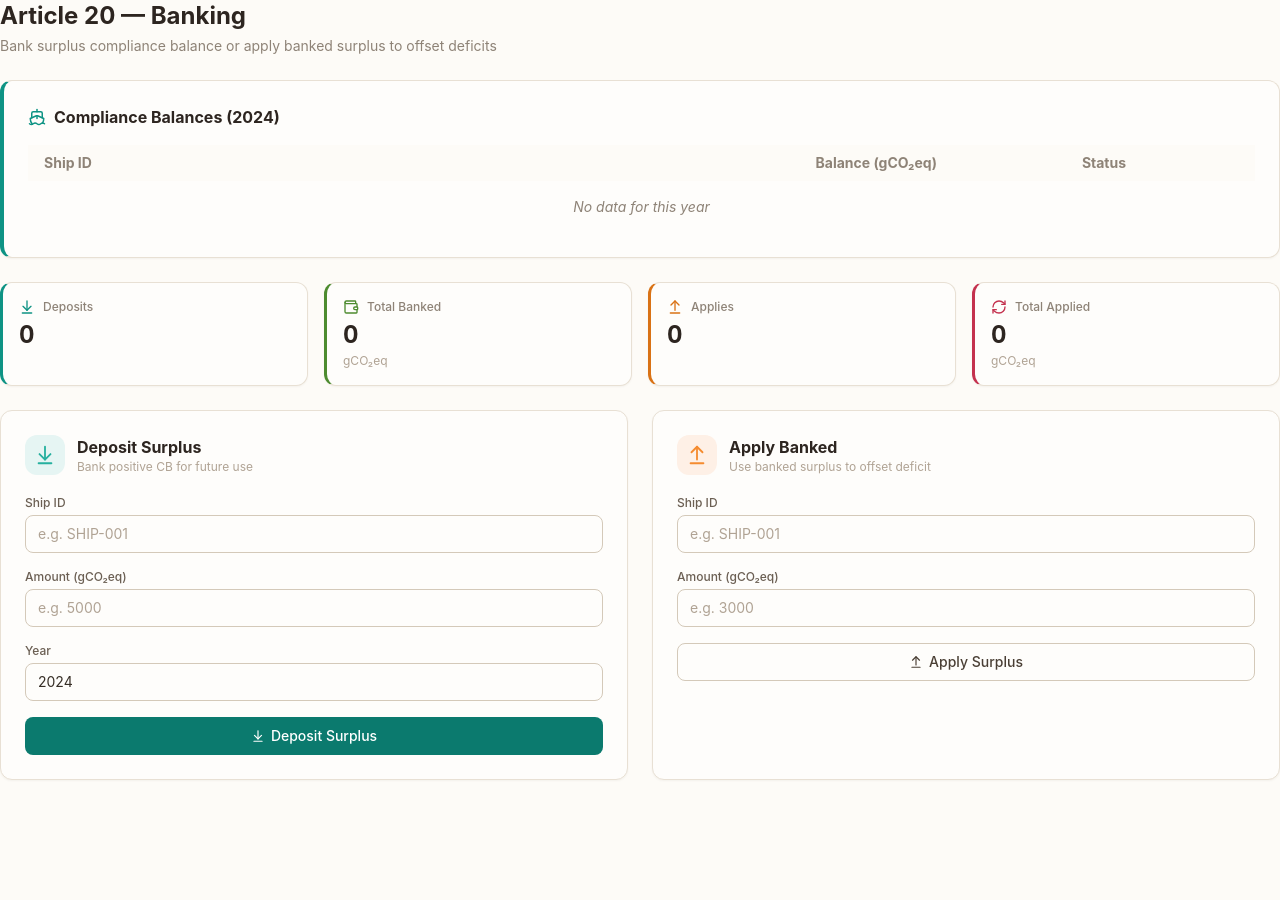
Test case: BankingTab › deposits surplus successfully
The image size is (1280, 900).
Type "SHIP-001" into the field with placeholder "e.g. SHIP-001" below "Bank positive CB for future use". click: [314, 534]
box: [25,515,603,553]
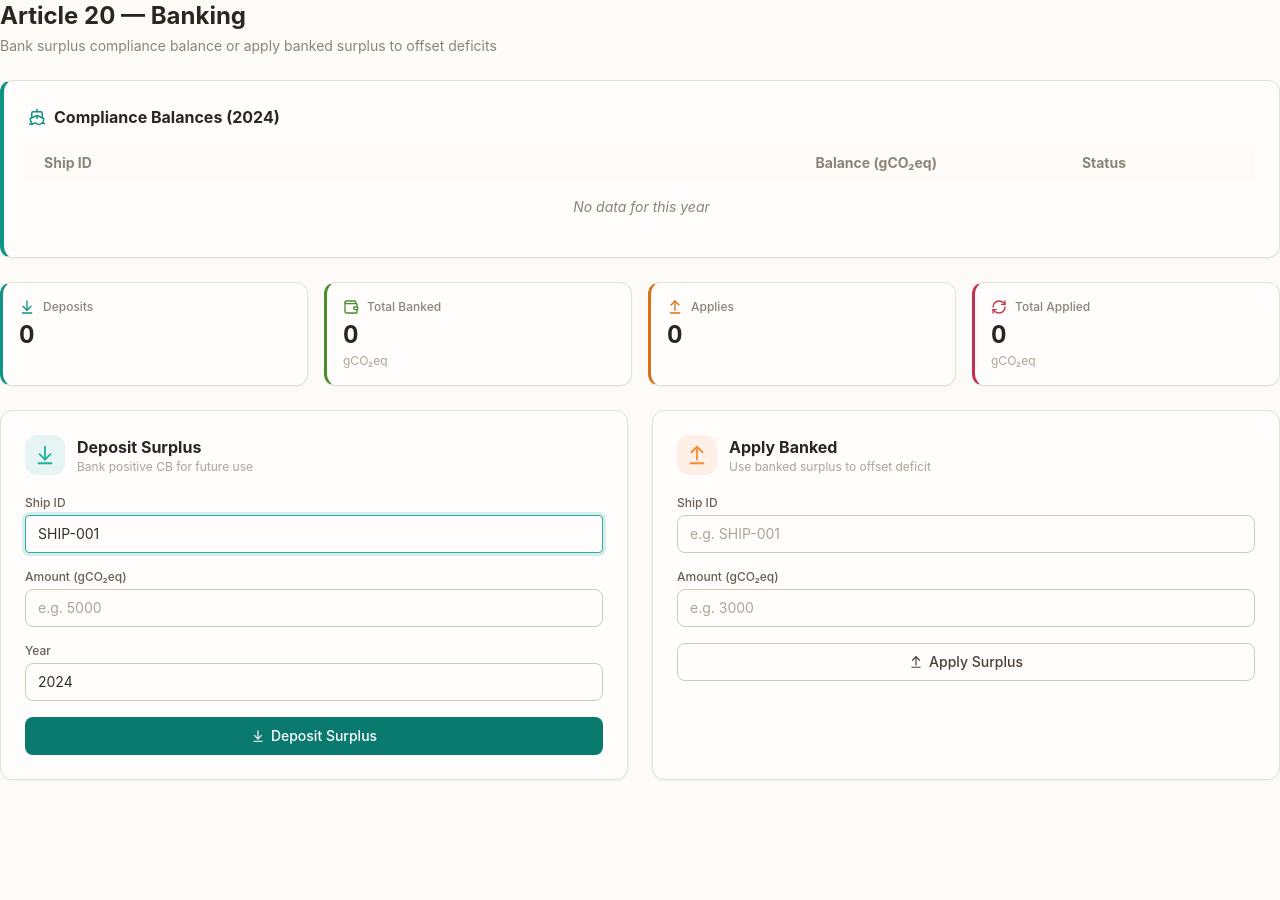
Type "5000" into the number field with placeholder "e.g. 5000" below "Bank positive CB for future use". click: [314, 608]
box: [25,589,603,627]
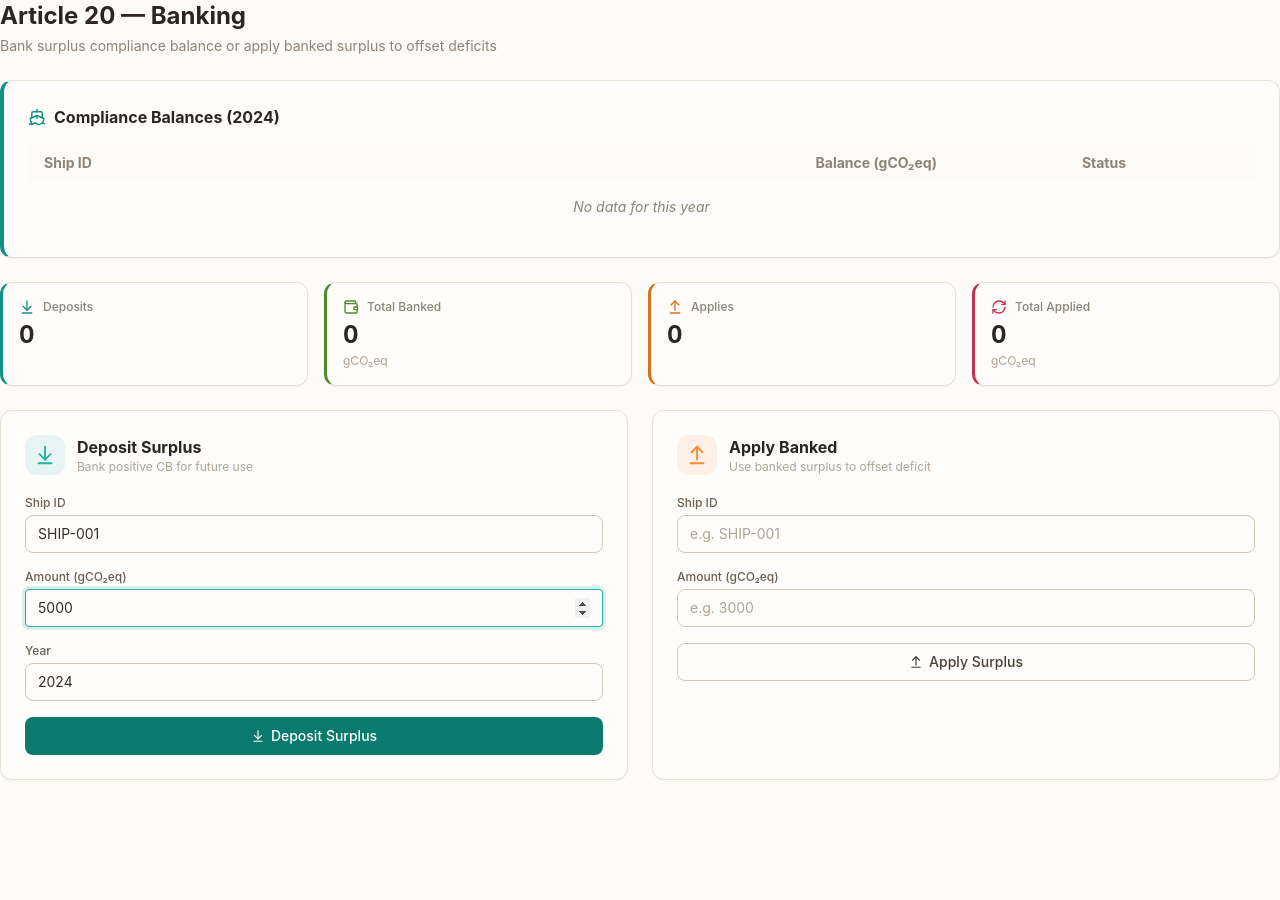
Click the button "Deposit Surplus". click: [314, 736]
box: [25,717,603,755]
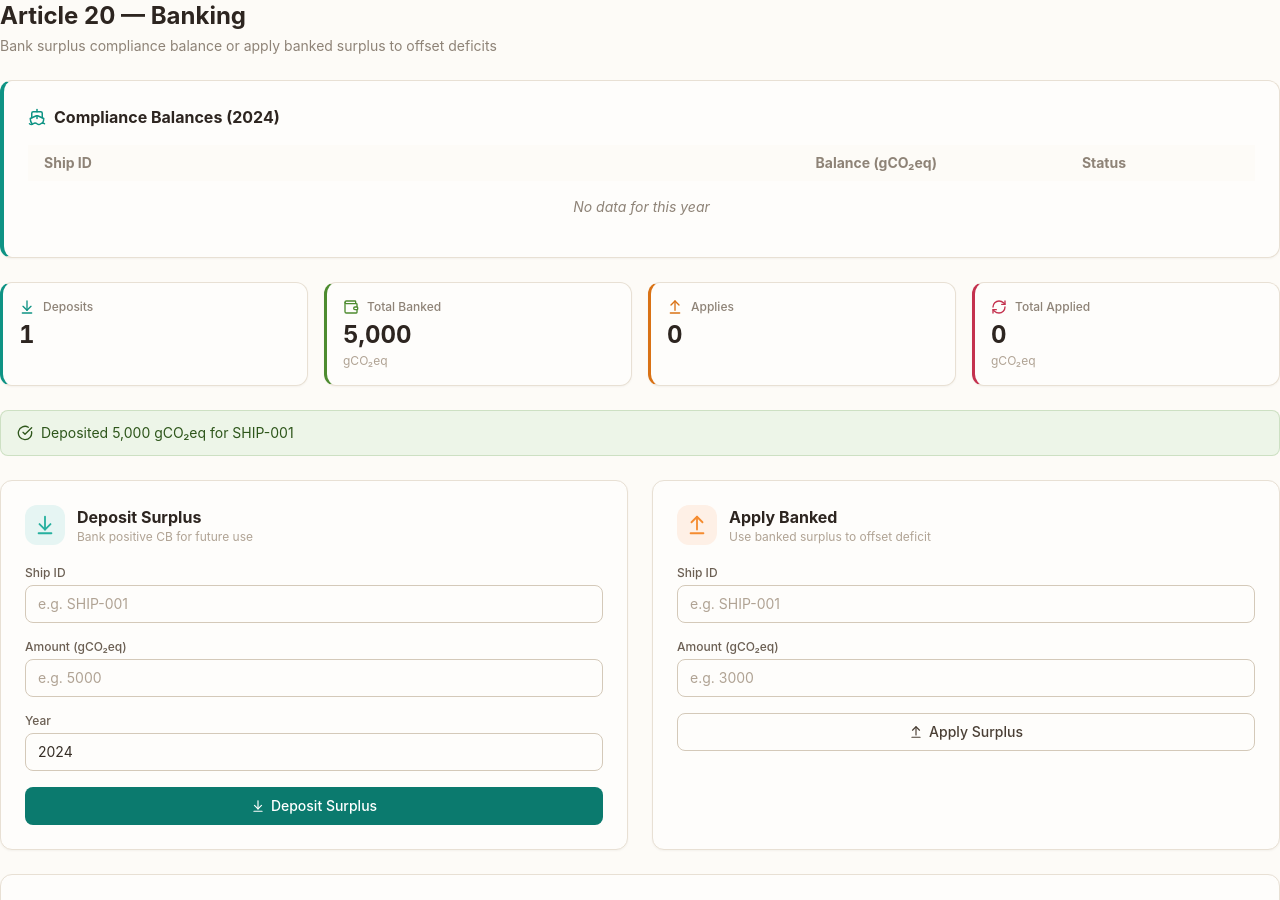
Check: the text "Deposited 5,000 gCO₂eq for SHIP-001" is shown, box [41,423,294,443]
